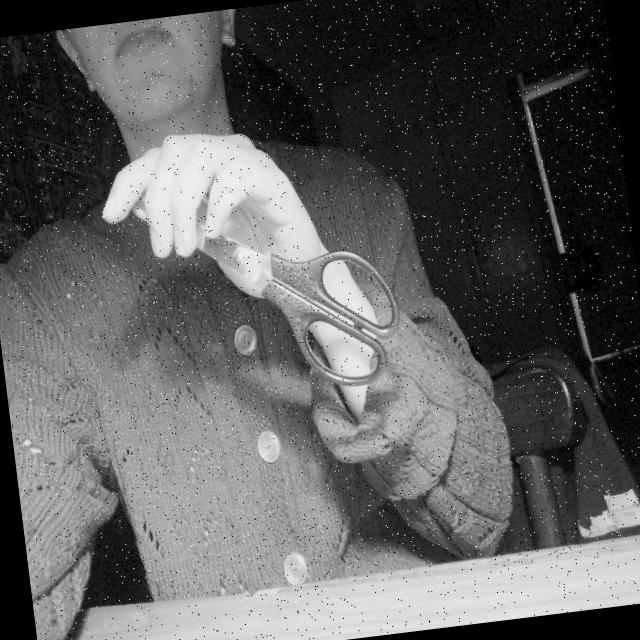scissors: (113, 167, 405, 398)
